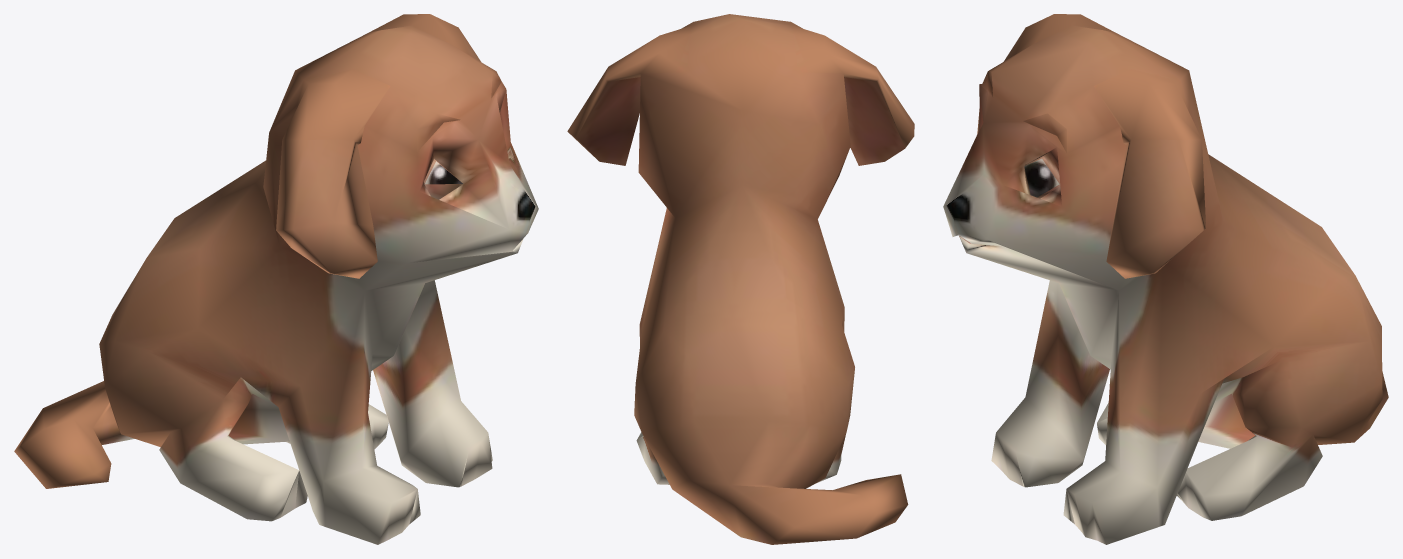
The model's file is Dog.glb.
The picture shows the model from 3 angles, left to right: view 1: azimuth 30°, elevation 25°; view 2: azimuth 150°, elevation 25°; view 3: azimuth 270°, elevation 25°; orthographic projection. The views are drawn at different scales.
Visible parts, largest first — view 1: Obj3d66-19800626-3-909; view 2: Obj3d66-19800626-3-909; view 3: Obj3d66-19800626-3-909.
Part boxes in pixels (x1,y1,x2,y2): Obj3d66-19800626-3-909: (14,14,538,544); Obj3d66-19800626-3-909: (567,14,914,544); Obj3d66-19800626-3-909: (943,14,1388,544).
Size of the model in its own units: 0.8621 by 0.9401 by 0.8106.
Materials: 1 (1 with a texture image).
